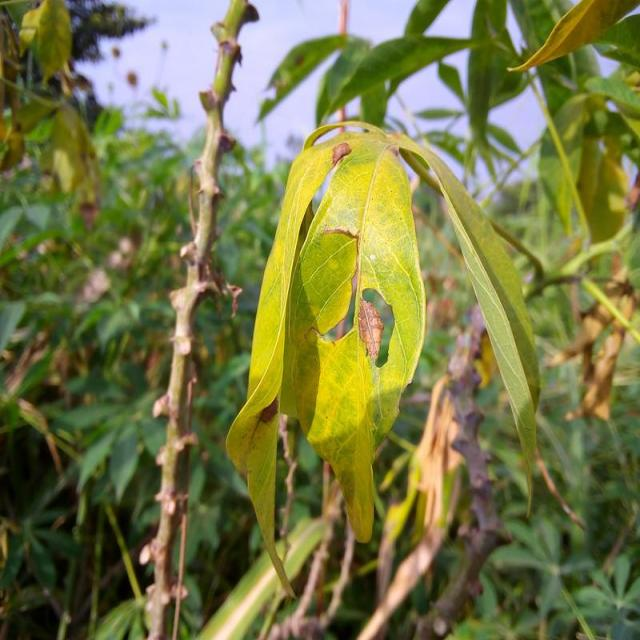cassava leaf: (225, 120, 540, 598), (282, 134, 428, 543)
